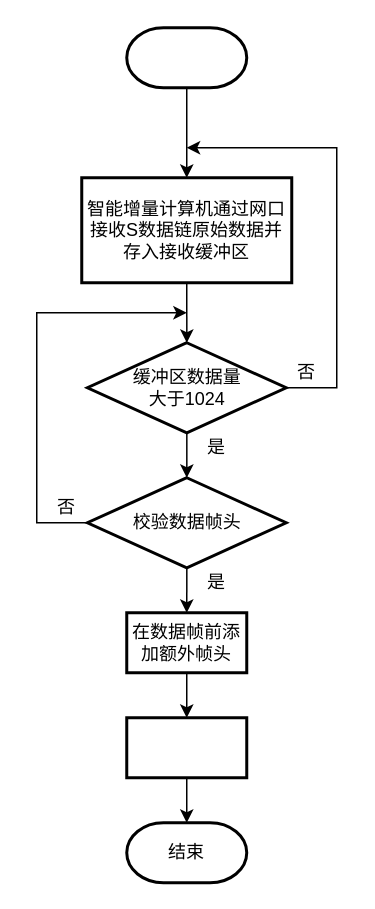
The diagram is 375 pixels wide and 909 high, and some of its shapes have lost their labels. Each missing label, with the centre of its shape:
"将数据添加至发送缓冲区" belongs at [186,747].
"开始" belongs at [186,57].
